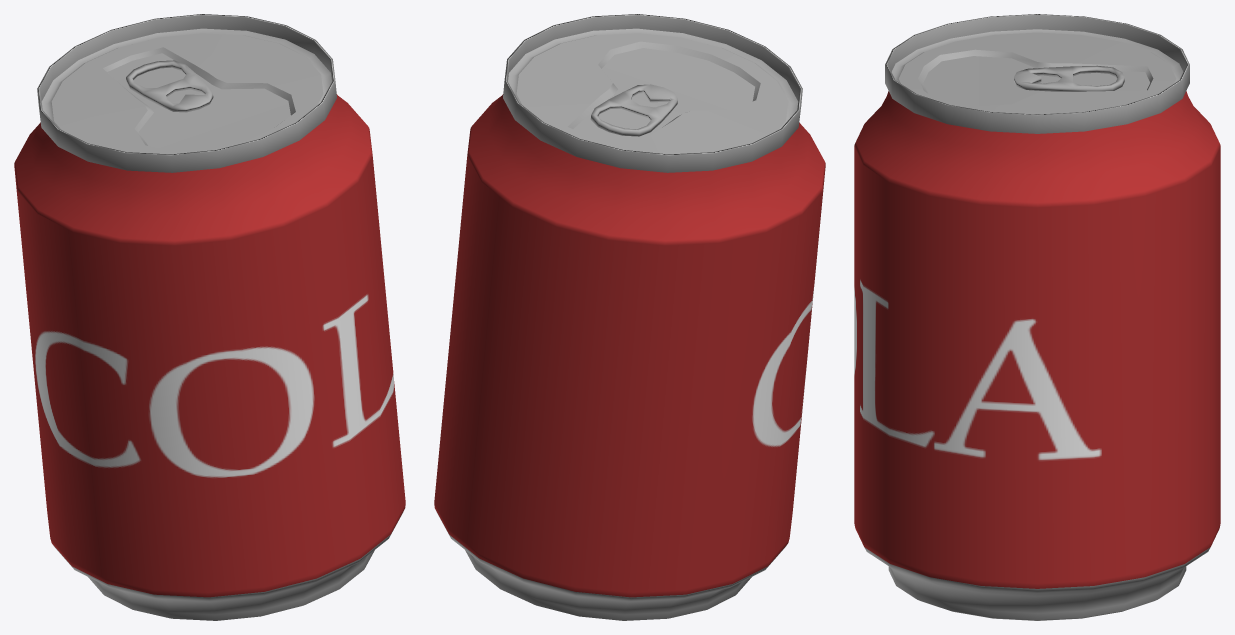
File: AnimationFall_In (1).fbx
3 views of the same model, side by side, from view 1: azimuth 30°, elevation 25°; view 2: azimuth 150°, elevation 25°; view 3: azimuth 270°, elevation 25° (orthographic).
Visible parts, largest first — view 1: polySurface2; view 2: polySurface2; view 3: polySurface2.
Part boxes in pixels (x1,y1,x2,y2): polySurface2: (14,14,405,620); polySurface2: (434,14,825,620); polySurface2: (854,14,1220,620).
Bounding box in the file's own units: 1.08 × 1.51 × 0.9791.
Materials: 1 (1 with a texture image).
